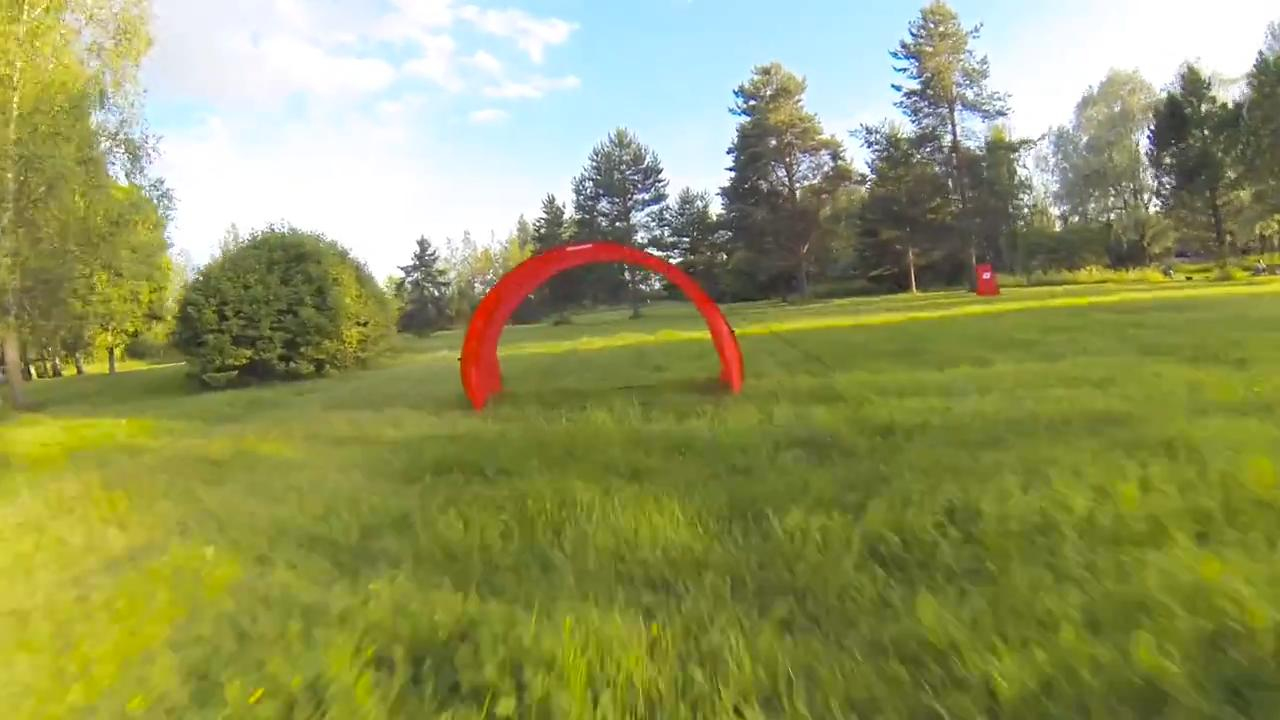gate: (456, 241, 753, 410)
